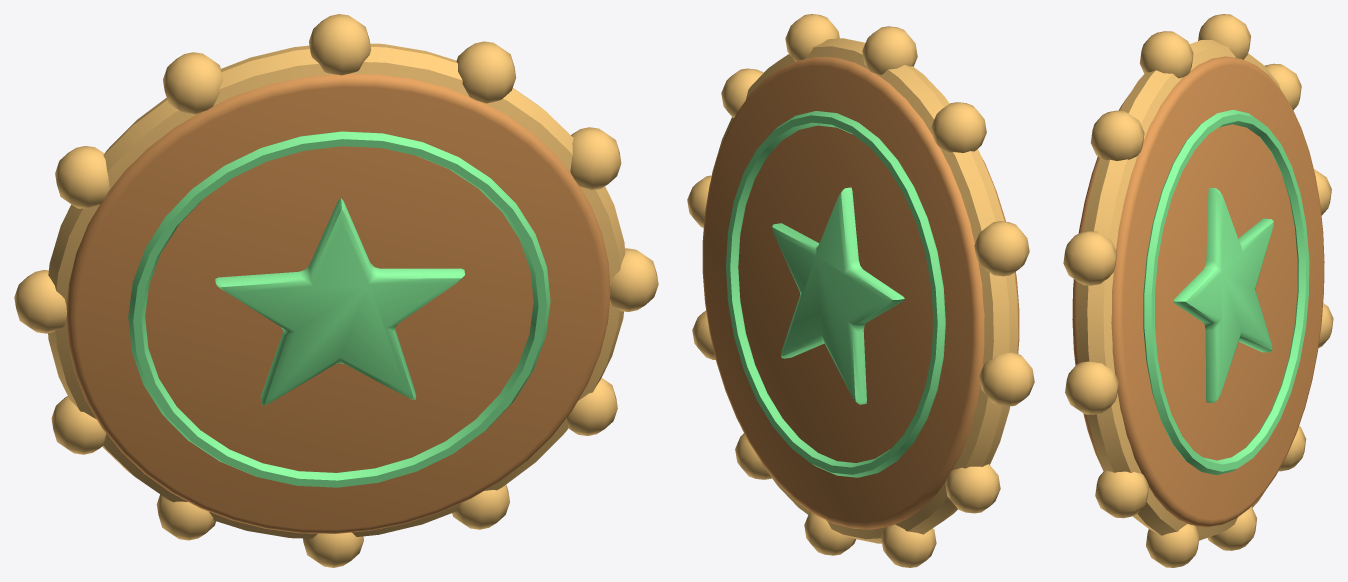
The model's file is LuckyPenny.fbx.
3 views of the same model, side by side, from view 1: azimuth 30°, elevation 25°; view 2: azimuth 150°, elevation 25°; view 3: azimuth 270°, elevation 25° (orthographic). The views are drawn at different scales.
Parts seen in each view (by area): view 1: LuckyPenny_Body, LuckyPenny_Trim, LuckyPenny_Neon; view 2: LuckyPenny_Body, LuckyPenny_Trim, LuckyPenny_Neon; view 3: LuckyPenny_Body, LuckyPenny_Trim, LuckyPenny_Neon.
Part boxes in pixels (x1,y1,x2,y2): LuckyPenny_Body: (66,74,610,533); LuckyPenny_Trim: (14,14,658,567); LuckyPenny_Neon: (128,131,550,487); LuckyPenny_Body: (702,56,1019,529); LuckyPenny_Trim: (687,14,1034,567); LuckyPenny_Neon: (726,111,945,477); LuckyPenny_Body: (1072,56,1324,527); LuckyPenny_Trim: (1063,14,1333,567); LuckyPenny_Neon: (1143,110,1309,474).
Bounding box in the file's own units: 2.77 × 3 × 1.46.
